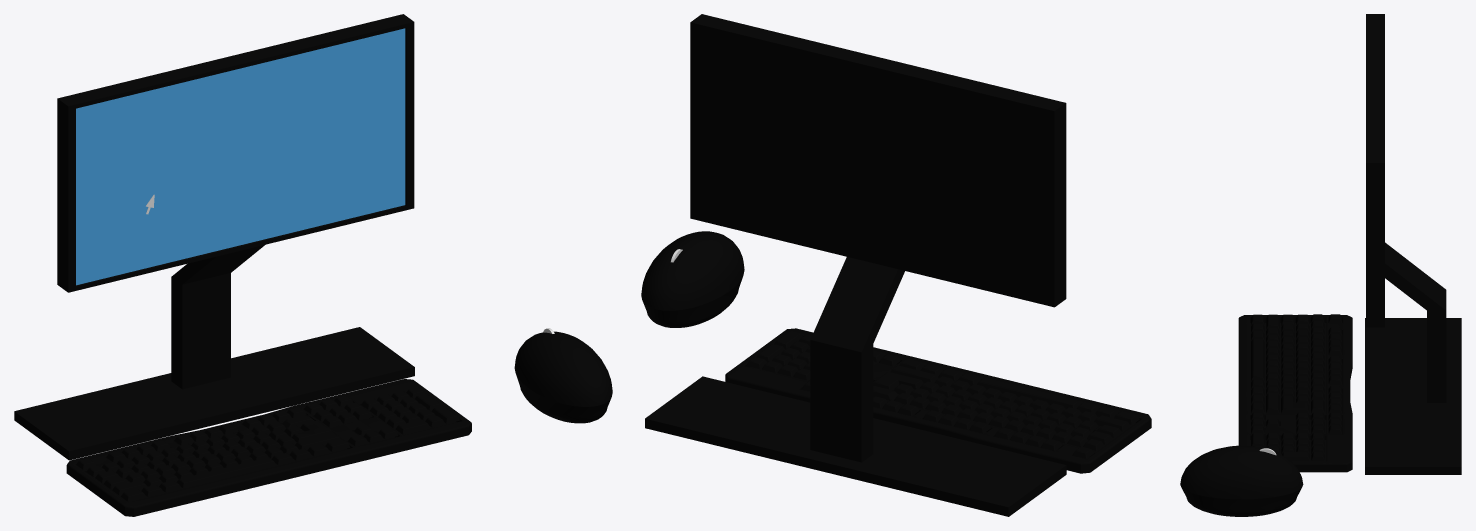
Rendered from Attack_Machine.glb.
3 renders of one model, left to right at view 1: azimuth 30°, elevation 25°; view 2: azimuth 150°, elevation 25°; view 3: azimuth 270°, elevation 25°, orthographic. The views are drawn at different scales.
Visible parts, largest first — view 1: Cube_6, Keyboard_Body_Keyboard_Body1_0_0, Cylinder_9; view 2: Cube_6, Keyboard_Body_Keyboard_Body1_0_0, Cylinder_9; view 3: Cube_6, Keyboard_Body_Keyboard_Body1_0_0, Cylinder_9.
Boxes of the visible parts, x1,y1,x2,y2 form: Cube_6: (14,14,414,460); Keyboard_Body_Keyboard_Body1_0_0: (66,379,471,516); Cylinder_9: (146,194,612,423); Cube_6: (645,14,1066,516); Keyboard_Body_Keyboard_Body1_0_0: (725,328,1151,473); Cylinder_9: (641,231,744,327); Cube_6: (1365,14,1461,474); Keyboard_Body_Keyboard_Body1_0_0: (1238,314,1352,472); Cylinder_9: (1180,445,1303,516).
Size of the model in its own units: 1.62 by 1.17 by 0.9461.
